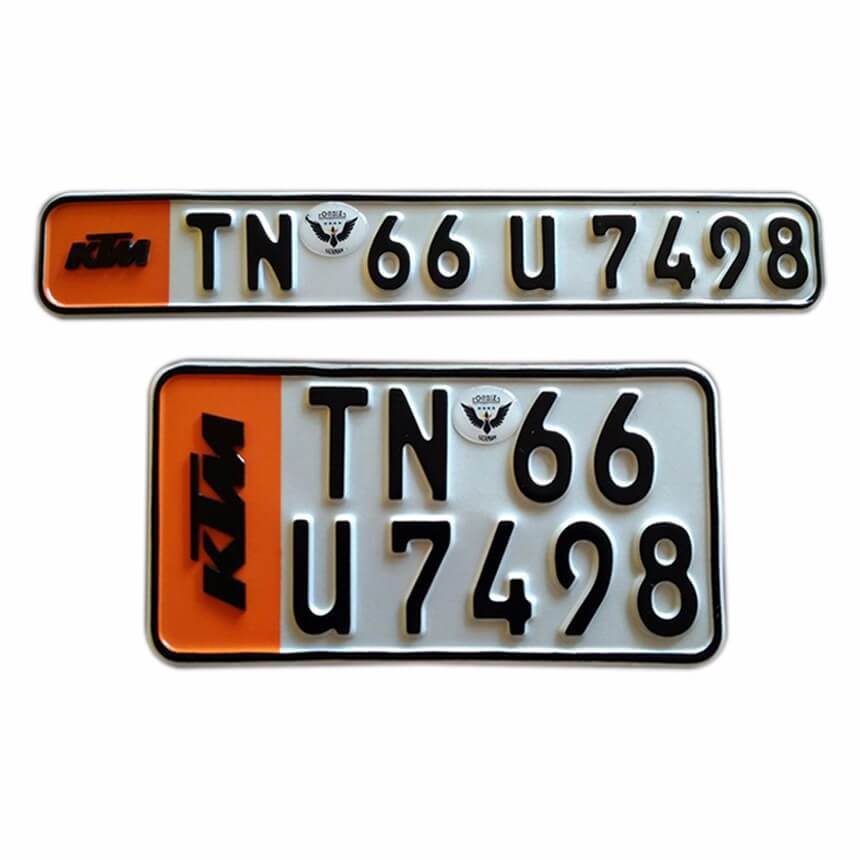number_plate: (148, 356, 717, 671), (34, 185, 825, 319)
